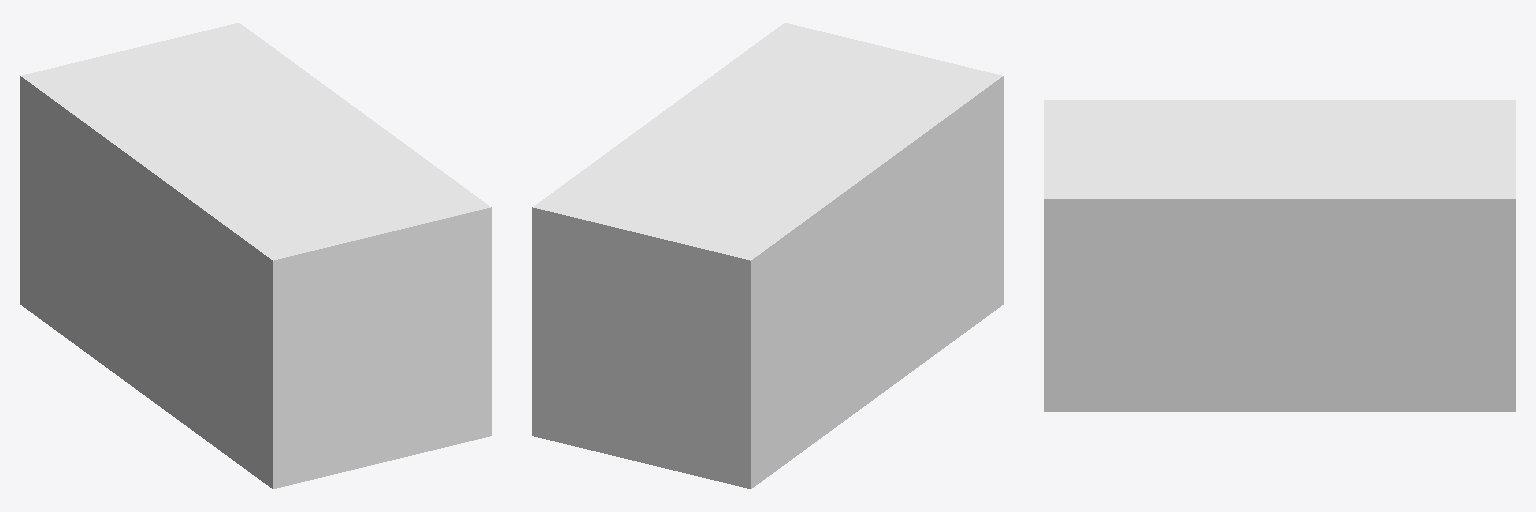
The robot description file, URDF, robot "panda":
<?xml version="1.0" ?>
<!-- =================================================================================== -->
<!-- |    This document was autogenerated by xacro from dual_panda_example.urdf.xacro  | -->
<!-- |    EDITING THIS FILE BY HAND IS NOT RECOMMENDED                                 | -->
<!-- =================================================================================== -->
<robot name="panda">
  <!-- box shaped table as base for the 2 Pandas -->
  <link name="base">
    <visual>
      <origin rpy="0 0 0" xyz="0 0 0.5"/>
      <geometry>
        <box size="1 2 1"/>
      </geometry>
      <material name="White">
        <color rgba="1.0 1.0 1.0 1.0"/>
      </material>
    </visual>
    <collision>
      <origin rpy="0 0 0" xyz="0 0 0.5"/>
      <geometry>
        <box size="1 2 1"/>
      </geometry>
    </collision>
  </link>
  <joint name="panda_1_joint_base" type="fixed">
    <parent link="base"/>
    <child link="panda_1_link0"/>
    <origin rpy="0 0 0" xyz="0 -0.5 1"/>
  </joint>
  <link name="panda_1_link0">
    <visual>
      <geometry>
        <mesh filename="package://franka_description/meshes/visual/link0.dae"/>
      </geometry>
    </visual>
    <collision>
      <origin rpy="0 1.5707963267948966 0" xyz="-0.075 0 0.06"/>
      <geometry>
        <cylinder length="0.03" radius="0.09"/>
      </geometry>
    </collision>
    <collision>
      <origin rpy="0 0 0" xyz="-0.06 0 0.06"/>
      <geometry>
        <sphere radius="0.09"/>
      </geometry>
    </collision>
    <collision>
      <origin rpy="0 0 0" xyz="-0.09 0 0.06"/>
      <geometry>
        <sphere radius="0.09"/>
      </geometry>
    </collision>
  </link>
  <link name="panda_1_link1">
    <visual>
      <geometry>
        <mesh filename="package://franka_description/meshes/visual/link1.dae"/>
      </geometry>
    </visual>
    <collision>
      <origin rpy="0 0 0" xyz="0 0 -0.1915"/>
      <geometry>
        <cylinder length="0.2830" radius="0.09"/>
      </geometry>
    </collision>
    <collision>
      <origin rpy="0 0 0" xyz="0 0 -0.333"/>
      <geometry>
        <sphere radius="0.09"/>
      </geometry>
    </collision>
    <collision>
      <origin rpy="0 0 0" xyz="0 0 -0.05"/>
      <geometry>
        <sphere radius="0.09"/>
      </geometry>
    </collision>
  </link>
  <joint name="panda_1_joint1" type="revolute">
    <safety_controller k_position="100.0" k_velocity="40.0" soft_lower_limit="-2.8973" soft_upper_limit="2.8973"/>
    <origin rpy="0 0 0" xyz="0 0 0.333"/>
    <parent link="panda_1_link0"/>
    <child link="panda_1_link1"/>
    <axis xyz="0 0 1"/>
    <limit effort="87" lower="-2.8973" upper="2.8973" velocity="2.1750"/>
  </joint>
  <link name="panda_1_link2">
    <visual>
      <geometry>
        <mesh filename="package://franka_description/meshes/visual/link2.dae"/>
      </geometry>
    </visual>
    <collision>
      <origin rpy="0 0 0" xyz="0 0 0"/>
      <geometry>
        <cylinder length="0.12" radius="0.09"/>
      </geometry>
    </collision>
    <collision>
      <origin rpy="0 0 0" xyz="0 0 -0.06"/>
      <geometry>
        <sphere radius="0.09"/>
      </geometry>
    </collision>
    <collision>
      <origin rpy="0 0 0" xyz="0 0 0.06"/>
      <geometry>
        <sphere radius="0.09"/>
      </geometry>
    </collision>
  </link>
  <joint name="panda_1_joint2" type="revolute">
    <safety_controller k_position="100.0" k_velocity="40.0" soft_lower_limit="-1.7628" soft_upper_limit="1.7628"/>
    <origin rpy="-1.5707963267948966 0 0" xyz="0 0 0"/>
    <parent link="panda_1_link1"/>
    <child link="panda_1_link2"/>
    <axis xyz="0 0 1"/>
    <limit effort="87" lower="-1.7628" upper="1.7628" velocity="2.1750"/>
  </joint>
  <link name="panda_1_link3">
    <visual>
      <geometry>
        <mesh filename="package://franka_description/meshes/visual/link3.dae"/>
      </geometry>
    </visual>
    <collision>
      <origin rpy="0 0 0" xyz="0 0 -0.145"/>
      <geometry>
        <cylinder length="0.15" radius="0.09"/>
      </geometry>
    </collision>
    <collision>
      <origin rpy="0 0 0" xyz="0 0 -0.22"/>
      <geometry>
        <sphere radius="0.09"/>
      </geometry>
    </collision>
    <collision>
      <origin rpy="0 0 0" xyz="0 0 -0.07"/>
      <geometry>
        <sphere radius="0.09"/>
      </geometry>
    </collision>
  </link>
  <joint name="panda_1_joint3" type="revolute">
    <safety_controller k_position="100.0" k_velocity="40.0" soft_lower_limit="-2.8973" soft_upper_limit="2.8973"/>
    <origin rpy="1.5707963267948966 0 0" xyz="0 -0.316 0"/>
    <parent link="panda_1_link2"/>
    <child link="panda_1_link3"/>
    <axis xyz="0 0 1"/>
    <limit effort="87" lower="-2.8973" upper="2.8973" velocity="2.1750"/>
  </joint>
  <link name="panda_1_link4">
    <visual>
      <geometry>
        <mesh filename="package://franka_description/meshes/visual/link4.dae"/>
      </geometry>
    </visual>
    <collision>
      <origin rpy="0 0 0" xyz="0 0 0"/>
      <geometry>
        <cylinder length="0.12" radius="0.09"/>
      </geometry>
    </collision>
    <collision>
      <origin rpy="0 0 0" xyz="0 0 0.06"/>
      <geometry>
        <sphere radius="0.09"/>
      </geometry>
    </collision>
    <collision>
      <origin rpy="0 0 0" xyz="0 0 -0.06"/>
      <geometry>
        <sphere radius="0.09"/>
      </geometry>
    </collision>
  </link>
  <joint name="panda_1_joint4" type="revolute">
    <safety_controller k_position="100.0" k_velocity="40.0" soft_lower_limit="-3.0718" soft_upper_limit="-0.0698"/>
    <origin rpy="1.5707963267948966 0 0" xyz="0.0825 0 0"/>
    <parent link="panda_1_link3"/>
    <child link="panda_1_link4"/>
    <axis xyz="0 0 1"/>
    <limit effort="87" lower="-3.0718" upper="-0.0698" velocity="2.1750"/>
  </joint>
  <link name="panda_1_link5">
    <visual>
      <geometry>
        <mesh filename="package://franka_description/meshes/visual/link5.dae"/>
      </geometry>
    </visual>
    <collision>
      <origin rpy="0 0 0" xyz="0 0 -0.26"/>
      <geometry>
        <cylinder length="0.1" radius="0.09"/>
      </geometry>
    </collision>
    <collision>
      <origin rpy="0 0 0" xyz="0 0 -0.31"/>
      <geometry>
        <sphere radius="0.09"/>
      </geometry>
    </collision>
    <collision>
      <origin rpy="0 0 0" xyz="0 0 -0.21"/>
      <geometry>
        <sphere radius="0.09"/>
      </geometry>
    </collision>
    <collision>
      <origin rpy="0 0 0" xyz="0 0.08 -0.13"/>
      <geometry>
        <cylinder length="0.14" radius="0.055"/>
      </geometry>
    </collision>
    <collision>
      <origin rpy="0 0 0" xyz="0 0.08 -0.06"/>
      <geometry>
        <sphere radius="0.055"/>
      </geometry>
    </collision>
    <collision>
      <origin rpy="0 0 0" xyz="0 0.08 -0.20"/>
      <geometry>
        <sphere radius="0.055"/>
      </geometry>
    </collision>
  </link>
  <joint name="panda_1_joint5" type="revolute">
    <safety_controller k_position="100.0" k_velocity="40.0" soft_lower_limit="-2.8973" soft_upper_limit="2.8973"/>
    <origin rpy="-1.5707963267948966 0 0" xyz="-0.0825 0.384 0"/>
    <parent link="panda_1_link4"/>
    <child link="panda_1_link5"/>
    <axis xyz="0 0 1"/>
    <limit effort="12" lower="-2.8973" upper="2.8973" velocity="2.6100"/>
  </joint>
  <link name="panda_1_link6">
    <visual>
      <geometry>
        <mesh filename="package://franka_description/meshes/visual/link6.dae"/>
      </geometry>
    </visual>
    <collision>
      <origin rpy="0 0 0" xyz="0 0 -0.03"/>
      <geometry>
        <cylinder length="0.08" radius="0.08"/>
      </geometry>
    </collision>
    <collision>
      <origin rpy="0 0 0" xyz="0 0 0.01"/>
      <geometry>
        <sphere radius="0.08"/>
      </geometry>
    </collision>
    <collision>
      <origin rpy="0 0 0" xyz="0 0 -0.07"/>
      <geometry>
        <sphere radius="0.08"/>
      </geometry>
    </collision>
  </link>
  <joint name="panda_1_joint6" type="revolute">
    <safety_controller k_position="100.0" k_velocity="40.0" soft_lower_limit="-0.0175" soft_upper_limit="3.7525"/>
    <origin rpy="1.5707963267948966 0 0" xyz="0 0 0"/>
    <parent link="panda_1_link5"/>
    <child link="panda_1_link6"/>
    <axis xyz="0 0 1"/>
    <limit effort="12" lower="-0.0175" upper="3.7525" velocity="2.6100"/>
  </joint>
  <link name="panda_1_link7">
    <visual>
      <geometry>
        <mesh filename="package://franka_description/meshes/visual/link7.dae"/>
      </geometry>
    </visual>
    <collision>
      <origin rpy="0 0 0" xyz="0 0 0.01"/>
      <geometry>
        <cylinder length="0.14" radius="0.07"/>
      </geometry>
    </collision>
    <collision>
      <origin rpy="0 0 0" xyz="0 0 0.08"/>
      <geometry>
        <sphere radius="0.07"/>
      </geometry>
    </collision>
    <collision>
      <origin rpy="0 0 0" xyz="0 0 -0.06"/>
      <geometry>
        <sphere radius="0.07"/>
      </geometry>
    </collision>
  </link>
  <joint name="panda_1_joint7" type="revolute">
    <safety_controller k_position="100.0" k_velocity="40.0" soft_lower_limit="-2.8973" soft_upper_limit="2.8973"/>
    <origin rpy="1.5707963267948966 0 0" xyz="0.088 0 0"/>
    <parent link="panda_1_link6"/>
    <child link="panda_1_link7"/>
    <axis xyz="0 0 1"/>
    <limit effort="12" lower="-2.8973" upper="2.8973" velocity="2.6100"/>
  </joint>
  <link name="panda_1_link8">
    <collision>
      <origin rpy="3.141592653589793 1.5707963267948966 1.5707963267948966" xyz="0.0424 0.0424 -0.0250"/>
      <geometry>
        <cylinder length="0.01" radius="0.06"/>
      </geometry>
    </collision>
    <collision>
      <origin rpy="0 0 0" xyz="0.0424 0.0424 -0.02"/>
      <geometry>
        <sphere radius="0.06"/>
      </geometry>
    </collision>
    <collision>
      <origin rpy="0 0 0" xyz="0.0424 0.0424 -0.03"/>
      <geometry>
        <sphere radius="0.06"/>
      </geometry>
    </collision>
  </link>
  <joint name="panda_1_joint8" type="fixed">
    <origin rpy="0 0 0" xyz="0 0 0.107"/>
    <parent link="panda_1_link7"/>
    <child link="panda_1_link8"/>
  </joint>
  <joint name="panda_1_hand_joint" type="fixed">
    <parent link="panda_1_link8"/>
    <child link="panda_1_hand"/>
    <origin rpy="0 0 -0.7853981633974483" xyz="0 0 0"/>
  </joint>
  <link name="panda_1_hand">
    <visual>
      <geometry>
        <mesh filename="package://franka_description/meshes/visual/hand.dae"/>
      </geometry>
    </visual>
    <collision>
      <origin rpy="0 1.5707963267948966 1.5707963267948966" xyz="0 0 0.04"/>
      <geometry>
        <cylinder length="0.1" radius="0.07"/>
      </geometry>
    </collision>
    <collision>
      <origin rpy="0 0 0" xyz="0 -0.05 0.04"/>
      <geometry>
        <sphere radius="0.07"/>
      </geometry>
    </collision>
    <collision>
      <origin rpy="0 0 0" xyz="0 0.05 0.04"/>
      <geometry>
        <sphere radius="0.07"/>
      </geometry>
    </collision>
    <collision>
      <origin rpy="0 1.5707963267948966 1.5707963267948966" xyz="0 0 0.1"/>
      <geometry>
        <cylinder length="0.1" radius="0.05"/>
      </geometry>
    </collision>
    <collision>
      <origin rpy="0 0 0" xyz="0 -0.05 0.1"/>
      <geometry>
        <sphere radius="0.05"/>
      </geometry>
    </collision>
    <collision>
      <origin rpy="0 0 0" xyz="0 0.05 0.1"/>
      <geometry>
        <sphere radius="0.05"/>
      </geometry>
    </collision>
  </link>
  <link name="panda_1_leftfinger">
    <visual>
      <geometry>
        <mesh filename="package://franka_description/meshes/visual/finger.dae"/>
      </geometry>
    </visual>
  </link>
  <link name="panda_1_rightfinger">
    <visual>
      <origin rpy="0 0 3.141592653589793" xyz="0 0 0"/>
      <geometry>
        <mesh filename="package://franka_description/meshes/visual/finger.dae"/>
      </geometry>
    </visual>
  </link>
  <joint name="panda_1_finger_joint1" type="prismatic">
    <parent link="panda_1_hand"/>
    <child link="panda_1_leftfinger"/>
    <origin rpy="0 0 0" xyz="0 0 0.0584"/>
    <axis xyz="0 1 0"/>
    <limit effort="20" lower="0.0" upper="0.04" velocity="0.2"/>
  </joint>
  <joint name="panda_1_finger_joint2" type="prismatic">
    <parent link="panda_1_hand"/>
    <child link="panda_1_rightfinger"/>
    <origin rpy="0 0 0" xyz="0 0 0.0584"/>
    <axis xyz="0 -1 0"/>
    <limit effort="20" lower="0.0" upper="0.04" velocity="0.2"/>
    <mimic joint="panda_1_finger_joint1"/>
  </joint>
  <joint name="panda_2_joint_base" type="fixed">
    <parent link="base"/>
    <child link="panda_2_link0"/>
    <origin rpy="0 0 0" xyz="0 0.5 1"/>
  </joint>
  <link name="panda_2_link0">
    <visual>
      <geometry>
        <mesh filename="package://franka_description/meshes/visual/link0.dae"/>
      </geometry>
    </visual>
    <collision>
      <origin rpy="0 1.5707963267948966 0" xyz="-0.075 0 0.06"/>
      <geometry>
        <cylinder length="0.03" radius="0.09"/>
      </geometry>
    </collision>
    <collision>
      <origin rpy="0 0 0" xyz="-0.06 0 0.06"/>
      <geometry>
        <sphere radius="0.09"/>
      </geometry>
    </collision>
    <collision>
      <origin rpy="0 0 0" xyz="-0.09 0 0.06"/>
      <geometry>
        <sphere radius="0.09"/>
      </geometry>
    </collision>
  </link>
  <link name="panda_2_link1">
    <visual>
      <geometry>
        <mesh filename="package://franka_description/meshes/visual/link1.dae"/>
      </geometry>
    </visual>
    <collision>
      <origin rpy="0 0 0" xyz="0 0 -0.1915"/>
      <geometry>
        <cylinder length="0.2830" radius="0.09"/>
      </geometry>
    </collision>
    <collision>
      <origin rpy="0 0 0" xyz="0 0 -0.333"/>
      <geometry>
        <sphere radius="0.09"/>
      </geometry>
    </collision>
    <collision>
      <origin rpy="0 0 0" xyz="0 0 -0.05"/>
      <geometry>
        <sphere radius="0.09"/>
      </geometry>
    </collision>
  </link>
  <joint name="panda_2_joint1" type="revolute">
    <safety_controller k_position="100.0" k_velocity="40.0" soft_lower_limit="-2.8973" soft_upper_limit="2.8973"/>
    <origin rpy="0 0 0" xyz="0 0 0.333"/>
    <parent link="panda_2_link0"/>
    <child link="panda_2_link1"/>
    <axis xyz="0 0 1"/>
    <limit effort="87" lower="-2.8973" upper="2.8973" velocity="2.1750"/>
  </joint>
  <link name="panda_2_link2">
    <visual>
      <geometry>
        <mesh filename="package://franka_description/meshes/visual/link2.dae"/>
      </geometry>
    </visual>
    <collision>
      <origin rpy="0 0 0" xyz="0 0 0"/>
      <geometry>
        <cylinder length="0.12" radius="0.09"/>
      </geometry>
    </collision>
    <collision>
      <origin rpy="0 0 0" xyz="0 0 -0.06"/>
      <geometry>
        <sphere radius="0.09"/>
      </geometry>
    </collision>
    <collision>
      <origin rpy="0 0 0" xyz="0 0 0.06"/>
      <geometry>
        <sphere radius="0.09"/>
      </geometry>
    </collision>
  </link>
  <joint name="panda_2_joint2" type="revolute">
    <safety_controller k_position="100.0" k_velocity="40.0" soft_lower_limit="-1.7628" soft_upper_limit="1.7628"/>
    <origin rpy="-1.5707963267948966 0 0" xyz="0 0 0"/>
    <parent link="panda_2_link1"/>
    <child link="panda_2_link2"/>
    <axis xyz="0 0 1"/>
    <limit effort="87" lower="-1.7628" upper="1.7628" velocity="2.1750"/>
  </joint>
  <link name="panda_2_link3">
    <visual>
      <geometry>
        <mesh filename="package://franka_description/meshes/visual/link3.dae"/>
      </geometry>
    </visual>
    <collision>
      <origin rpy="0 0 0" xyz="0 0 -0.145"/>
      <geometry>
        <cylinder length="0.15" radius="0.09"/>
      </geometry>
    </collision>
    <collision>
      <origin rpy="0 0 0" xyz="0 0 -0.22"/>
      <geometry>
        <sphere radius="0.09"/>
      </geometry>
    </collision>
    <collision>
      <origin rpy="0 0 0" xyz="0 0 -0.07"/>
      <geometry>
        <sphere radius="0.09"/>
      </geometry>
    </collision>
  </link>
  <joint name="panda_2_joint3" type="revolute">
    <safety_controller k_position="100.0" k_velocity="40.0" soft_lower_limit="-2.8973" soft_upper_limit="2.8973"/>
    <origin rpy="1.5707963267948966 0 0" xyz="0 -0.316 0"/>
    <parent link="panda_2_link2"/>
    <child link="panda_2_link3"/>
    <axis xyz="0 0 1"/>
    <limit effort="87" lower="-2.8973" upper="2.8973" velocity="2.1750"/>
  </joint>
  <link name="panda_2_link4">
    <visual>
      <geometry>
        <mesh filename="package://franka_description/meshes/visual/link4.dae"/>
      </geometry>
    </visual>
    <collision>
      <origin rpy="0 0 0" xyz="0 0 0"/>
      <geometry>
        <cylinder length="0.12" radius="0.09"/>
      </geometry>
    </collision>
    <collision>
      <origin rpy="0 0 0" xyz="0 0 0.06"/>
      <geometry>
        <sphere radius="0.09"/>
      </geometry>
    </collision>
    <collision>
      <origin rpy="0 0 0" xyz="0 0 -0.06"/>
      <geometry>
        <sphere radius="0.09"/>
      </geometry>
    </collision>
  </link>
  <joint name="panda_2_joint4" type="revolute">
    <safety_controller k_position="100.0" k_velocity="40.0" soft_lower_limit="-3.0718" soft_upper_limit="-0.0698"/>
    <origin rpy="1.5707963267948966 0 0" xyz="0.0825 0 0"/>
    <parent link="panda_2_link3"/>
    <child link="panda_2_link4"/>
    <axis xyz="0 0 1"/>
    <limit effort="87" lower="-3.0718" upper="-0.0698" velocity="2.1750"/>
  </joint>
  <link name="panda_2_link5">
    <visual>
      <geometry>
        <mesh filename="package://franka_description/meshes/visual/link5.dae"/>
      </geometry>
    </visual>
    <collision>
      <origin rpy="0 0 0" xyz="0 0 -0.26"/>
      <geometry>
        <cylinder length="0.1" radius="0.09"/>
      </geometry>
    </collision>
    <collision>
      <origin rpy="0 0 0" xyz="0 0 -0.31"/>
      <geometry>
        <sphere radius="0.09"/>
      </geometry>
    </collision>
    <collision>
      <origin rpy="0 0 0" xyz="0 0 -0.21"/>
      <geometry>
        <sphere radius="0.09"/>
      </geometry>
    </collision>
    <collision>
      <origin rpy="0 0 0" xyz="0 0.08 -0.13"/>
      <geometry>
        <cylinder length="0.14" radius="0.055"/>
      </geometry>
    </collision>
    <collision>
      <origin rpy="0 0 0" xyz="0 0.08 -0.06"/>
      <geometry>
        <sphere radius="0.055"/>
      </geometry>
    </collision>
    <collision>
      <origin rpy="0 0 0" xyz="0 0.08 -0.20"/>
      <geometry>
        <sphere radius="0.055"/>
      </geometry>
    </collision>
  </link>
  <joint name="panda_2_joint5" type="revolute">
    <safety_controller k_position="100.0" k_velocity="40.0" soft_lower_limit="-2.8973" soft_upper_limit="2.8973"/>
    <origin rpy="-1.5707963267948966 0 0" xyz="-0.0825 0.384 0"/>
    <parent link="panda_2_link4"/>
    <child link="panda_2_link5"/>
    <axis xyz="0 0 1"/>
    <limit effort="12" lower="-2.8973" upper="2.8973" velocity="2.6100"/>
  </joint>
  <link name="panda_2_link6">
    <visual>
      <geometry>
        <mesh filename="package://franka_description/meshes/visual/link6.dae"/>
      </geometry>
    </visual>
    <collision>
      <origin rpy="0 0 0" xyz="0 0 -0.03"/>
      <geometry>
        <cylinder length="0.08" radius="0.08"/>
      </geometry>
    </collision>
    <collision>
      <origin rpy="0 0 0" xyz="0 0 0.01"/>
      <geometry>
        <sphere radius="0.08"/>
      </geometry>
    </collision>
    <collision>
      <origin rpy="0 0 0" xyz="0 0 -0.07"/>
      <geometry>
        <sphere radius="0.08"/>
      </geometry>
    </collision>
  </link>
  <joint name="panda_2_joint6" type="revolute">
    <safety_controller k_position="100.0" k_velocity="40.0" soft_lower_limit="-0.0175" soft_upper_limit="3.7525"/>
    <origin rpy="1.5707963267948966 0 0" xyz="0 0 0"/>
    <parent link="panda_2_link5"/>
    <child link="panda_2_link6"/>
    <axis xyz="0 0 1"/>
    <limit effort="12" lower="-0.0175" upper="3.7525" velocity="2.6100"/>
  </joint>
  <link name="panda_2_link7">
    <visual>
      <geometry>
        <mesh filename="package://franka_description/meshes/visual/link7.dae"/>
      </geometry>
    </visual>
    <collision>
      <origin rpy="0 0 0" xyz="0 0 0.01"/>
      <geometry>
        <cylinder length="0.14" radius="0.07"/>
      </geometry>
    </collision>
    <collision>
      <origin rpy="0 0 0" xyz="0 0 0.08"/>
      <geometry>
        <sphere radius="0.07"/>
      </geometry>
    </collision>
    <collision>
      <origin rpy="0 0 0" xyz="0 0 -0.06"/>
      <geometry>
        <sphere radius="0.07"/>
      </geometry>
    </collision>
  </link>
  <joint name="panda_2_joint7" type="revolute">
    <safety_controller k_position="100.0" k_velocity="40.0" soft_lower_limit="-2.8973" soft_upper_limit="2.8973"/>
    <origin rpy="1.5707963267948966 0 0" xyz="0.088 0 0"/>
    <parent link="panda_2_link6"/>
    <child link="panda_2_link7"/>
    <axis xyz="0 0 1"/>
    <limit effort="12" lower="-2.8973" upper="2.8973" velocity="2.6100"/>
  </joint>
  <link name="panda_2_link8">
    <collision>
      <origin rpy="3.141592653589793 1.5707963267948966 1.5707963267948966" xyz="0.0424 0.0424 -0.0250"/>
      <geometry>
        <cylinder length="0.01" radius="0.06"/>
      </geometry>
    </collision>
    <collision>
      <origin rpy="0 0 0" xyz="0.0424 0.0424 -0.02"/>
      <geometry>
        <sphere radius="0.06"/>
      </geometry>
    </collision>
    <collision>
      <origin rpy="0 0 0" xyz="0.0424 0.0424 -0.03"/>
      <geometry>
        <sphere radius="0.06"/>
      </geometry>
    </collision>
  </link>
  <joint name="panda_2_joint8" type="fixed">
    <origin rpy="0 0 0" xyz="0 0 0.107"/>
    <parent link="panda_2_link7"/>
    <child link="panda_2_link8"/>
  </joint>
  <joint name="panda_2_hand_joint" type="fixed">
    <parent link="panda_2_link8"/>
    <child link="panda_2_hand"/>
    <origin rpy="0 0 -0.7853981633974483" xyz="0 0 0"/>
  </joint>
  <link name="panda_2_hand">
    <visual>
      <geometry>
        <mesh filename="package://franka_description/meshes/visual/hand.dae"/>
      </geometry>
    </visual>
    <collision>
      <origin rpy="0 1.5707963267948966 1.5707963267948966" xyz="0 0 0.04"/>
      <geometry>
        <cylinder length="0.1" radius="0.07"/>
      </geometry>
    </collision>
    <collision>
      <origin rpy="0 0 0" xyz="0 -0.05 0.04"/>
      <geometry>
        <sphere radius="0.07"/>
      </geometry>
    </collision>
    <collision>
      <origin rpy="0 0 0" xyz="0 0.05 0.04"/>
      <geometry>
        <sphere radius="0.07"/>
      </geometry>
    </collision>
    <collision>
      <origin rpy="0 1.5707963267948966 1.5707963267948966" xyz="0 0 0.1"/>
      <geometry>
        <cylinder length="0.1" radius="0.05"/>
      </geometry>
    </collision>
    <collision>
      <origin rpy="0 0 0" xyz="0 -0.05 0.1"/>
      <geometry>
        <sphere radius="0.05"/>
      </geometry>
    </collision>
    <collision>
      <origin rpy="0 0 0" xyz="0 0.05 0.1"/>
      <geometry>
        <sphere radius="0.05"/>
      </geometry>
    </collision>
  </link>
  <link name="panda_2_leftfinger">
    <visual>
      <geometry>
        <mesh filename="package://franka_description/meshes/visual/finger.dae"/>
      </geometry>
    </visual>
  </link>
  <link name="panda_2_rightfinger">
    <visual>
      <origin rpy="0 0 3.141592653589793" xyz="0 0 0"/>
      <geometry>
        <mesh filename="package://franka_description/meshes/visual/finger.dae"/>
      </geometry>
    </visual>
  </link>
  <joint name="panda_2_finger_joint1" type="prismatic">
    <parent link="panda_2_hand"/>
    <child link="panda_2_leftfinger"/>
    <origin rpy="0 0 0" xyz="0 0 0.0584"/>
    <axis xyz="0 1 0"/>
    <limit effort="20" lower="0.0" upper="0.04" velocity="0.2"/>
  </joint>
  <joint name="panda_2_finger_joint2" type="prismatic">
    <parent link="panda_2_hand"/>
    <child link="panda_2_rightfinger"/>
    <origin rpy="0 0 0" xyz="0 0 0.0584"/>
    <axis xyz="0 -1 0"/>
    <limit effort="20" lower="0.0" upper="0.04" velocity="0.2"/>
    <mimic joint="panda_2_finger_joint1"/>
  </joint>
</robot>

--- What the picture shows (computed from the rendered views, not written in the file) ---
3 views of the same robot in one strip: view 1: azimuth 30°, elevation 25°; view 2: azimuth 150°, elevation 25°; view 3: azimuth 270°, elevation 25° (orthographic).
Model panda with 25 links and 24 joints (14 revolute, 4 prismatic, 6 fixed), rooted at base, posed joints at zero except 2 at the middle of their limits (panda_1_joint4 = -1.57, panda_2_joint4 = -1.57).
Visible links, largest first — view 1: base; view 2: base; view 3: base.
Boxes of the visible links, x1,y1,x2,y2 form: base: (20, 23, 491, 488); base: (532, 23, 1003, 488); base: (1044, 100, 1515, 411).
Size in the robot's own frame: 1 by 2 by 1 metres.
Meshes: 10 distinct files referenced, 0 mesh visuals loaded (none loaded); not drawn: 22 (reference not matched to a file when rendering).